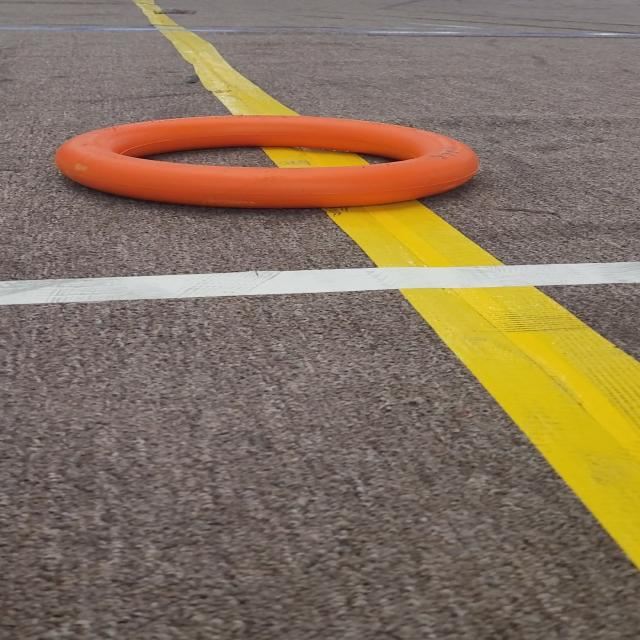note: (51, 108, 514, 230)
